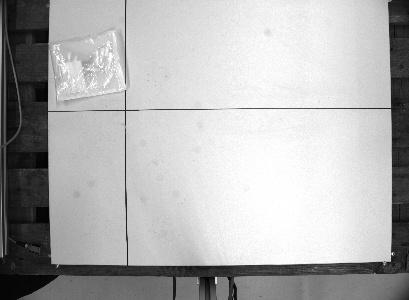t3: (47, 27, 132, 105)
